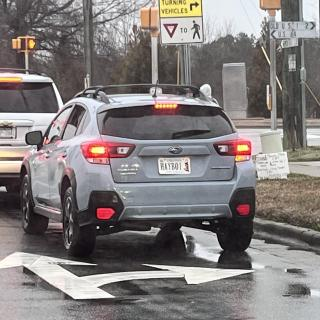license: (158, 158, 192, 176)
